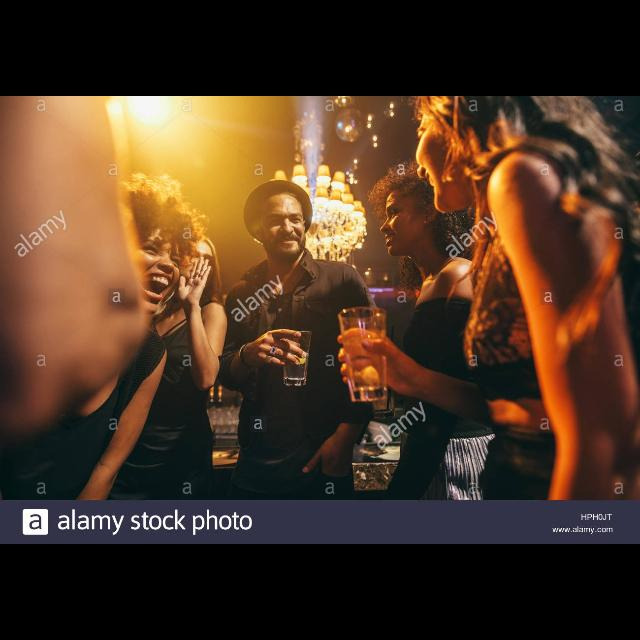head: (411, 96, 522, 216), (100, 202, 184, 316), (378, 174, 460, 258), (252, 185, 308, 259), (178, 234, 218, 290)
